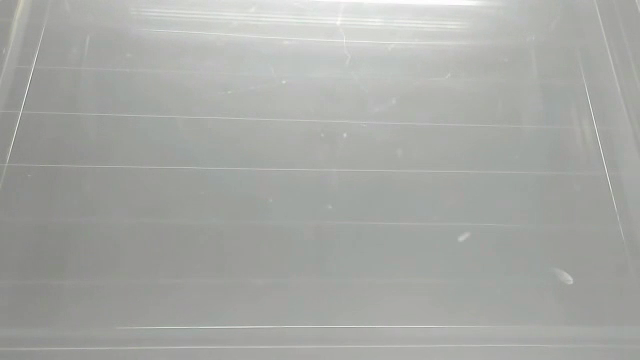alpha: (551, 265, 576, 288), (455, 229, 475, 245)
